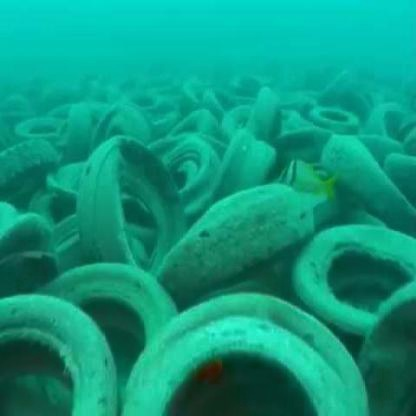tire: (110, 292, 369, 416), (157, 179, 319, 281), (77, 134, 185, 277), (1, 292, 124, 416), (40, 253, 174, 348), (295, 219, 416, 324), (320, 132, 416, 228), (365, 279, 416, 416), (217, 125, 279, 187), (163, 144, 223, 204), (2, 134, 66, 187), (236, 86, 288, 131), (174, 110, 226, 141), (309, 96, 349, 134), (13, 117, 72, 135), (226, 75, 274, 89)
